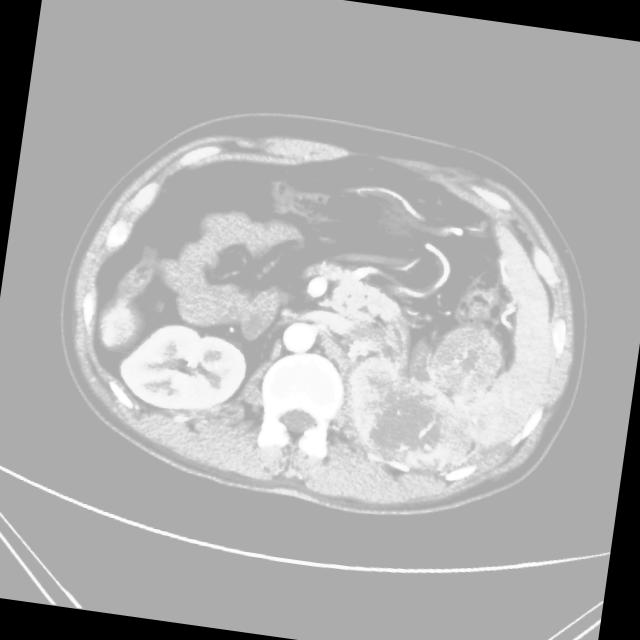TUMOR: (107, 155, 492, 476)
